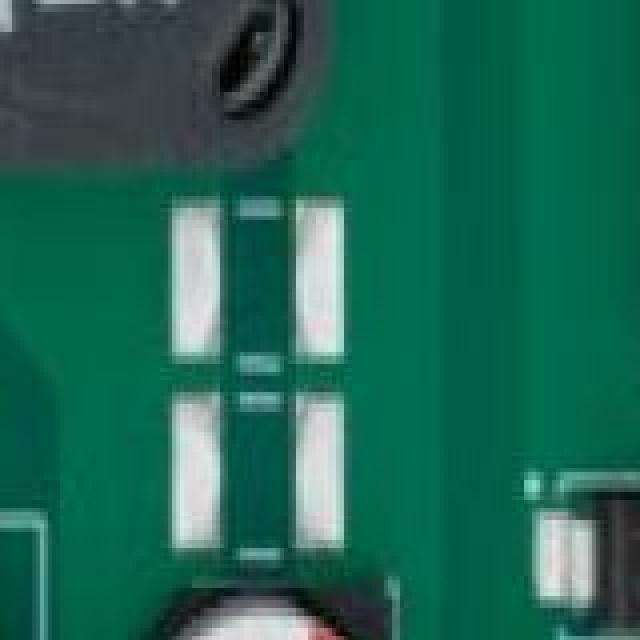battery: (0, 524, 56, 640)
capacitor: (112, 588, 400, 640)
diode: (532, 472, 640, 640), (636, 0, 640, 392)
inductor: (0, 0, 324, 140)
